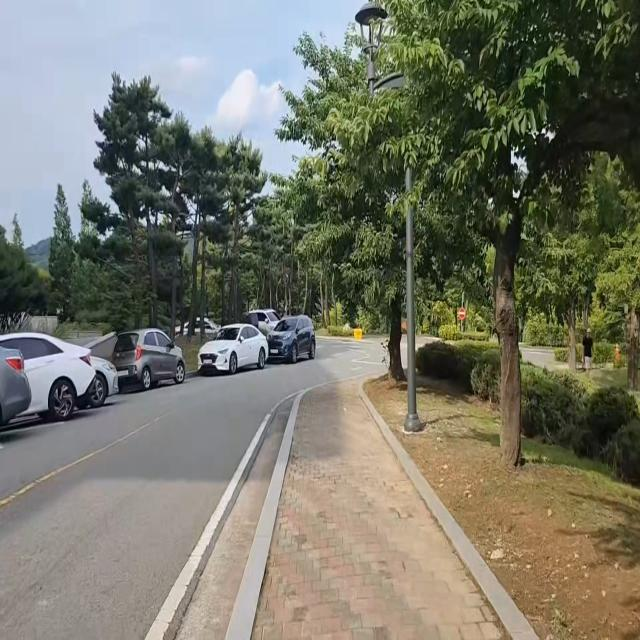obstacle: (0, 326, 124, 449), (195, 306, 319, 379), (107, 326, 191, 396)
road: (0, 357, 387, 640)
sidewalk: (225, 376, 540, 640)
